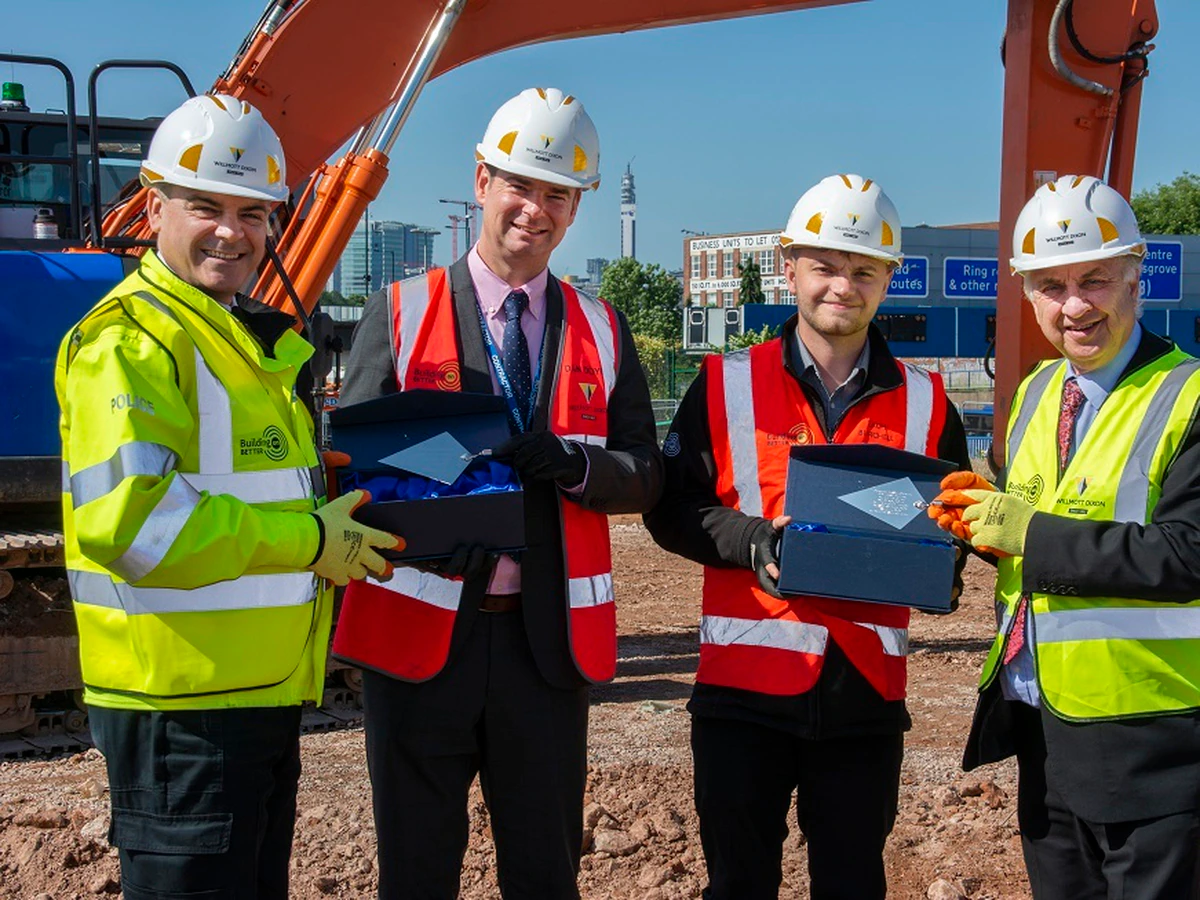Helmet: (995, 170, 1181, 388), (135, 89, 303, 304), (767, 165, 924, 364), (467, 78, 613, 284)
Reflective vest: (42, 253, 337, 719), (333, 266, 625, 688), (968, 344, 1200, 723), (698, 333, 928, 699)
